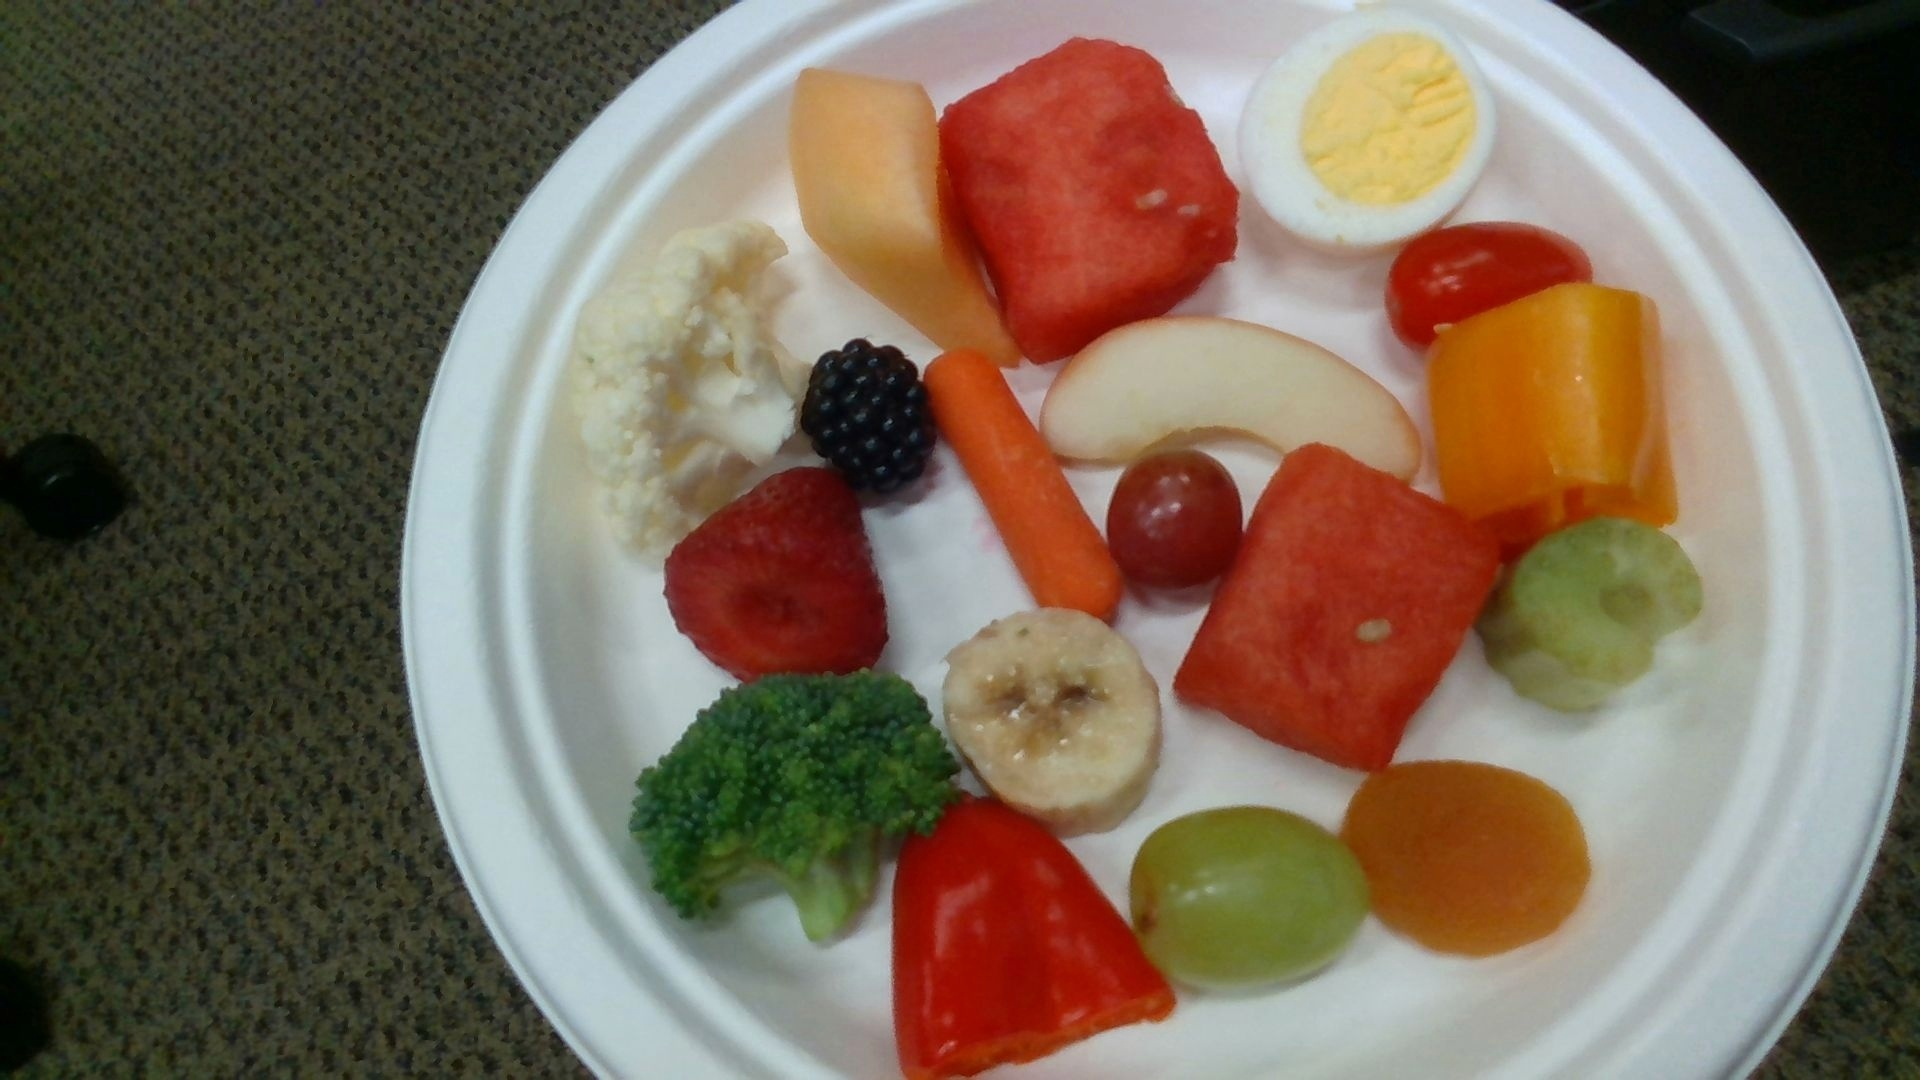apple: (1044, 316, 1418, 483)
apricot: (1344, 766, 1590, 957)
banana: (945, 608, 1162, 835)
bell_pepper: (894, 800, 1174, 1080), (1427, 285, 1675, 533)
blackberry: (804, 340, 934, 491)
broccoli: (630, 673, 955, 940)
cantalope: (789, 70, 1015, 365)
carrot: (924, 351, 1122, 615)
cauliflower: (570, 223, 793, 535)
celery: (1484, 518, 1698, 705)
cherry_tomato: (1389, 225, 1592, 345)
egg: (1240, 16, 1495, 251)
grape_green: (1130, 810, 1365, 988)
grape_purple: (1109, 454, 1242, 588)
melon: (1175, 448, 1495, 771), (939, 40, 1234, 357)
strawberry: (667, 469, 887, 678)
